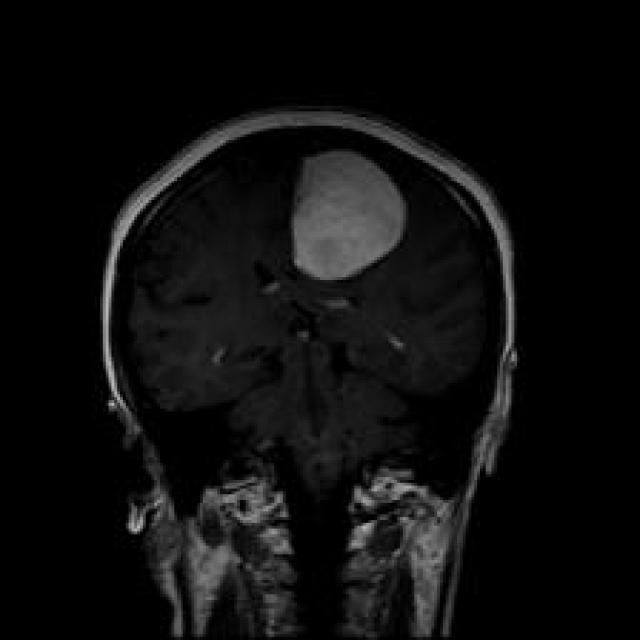meningioma_tumor: (285, 138, 417, 289)
